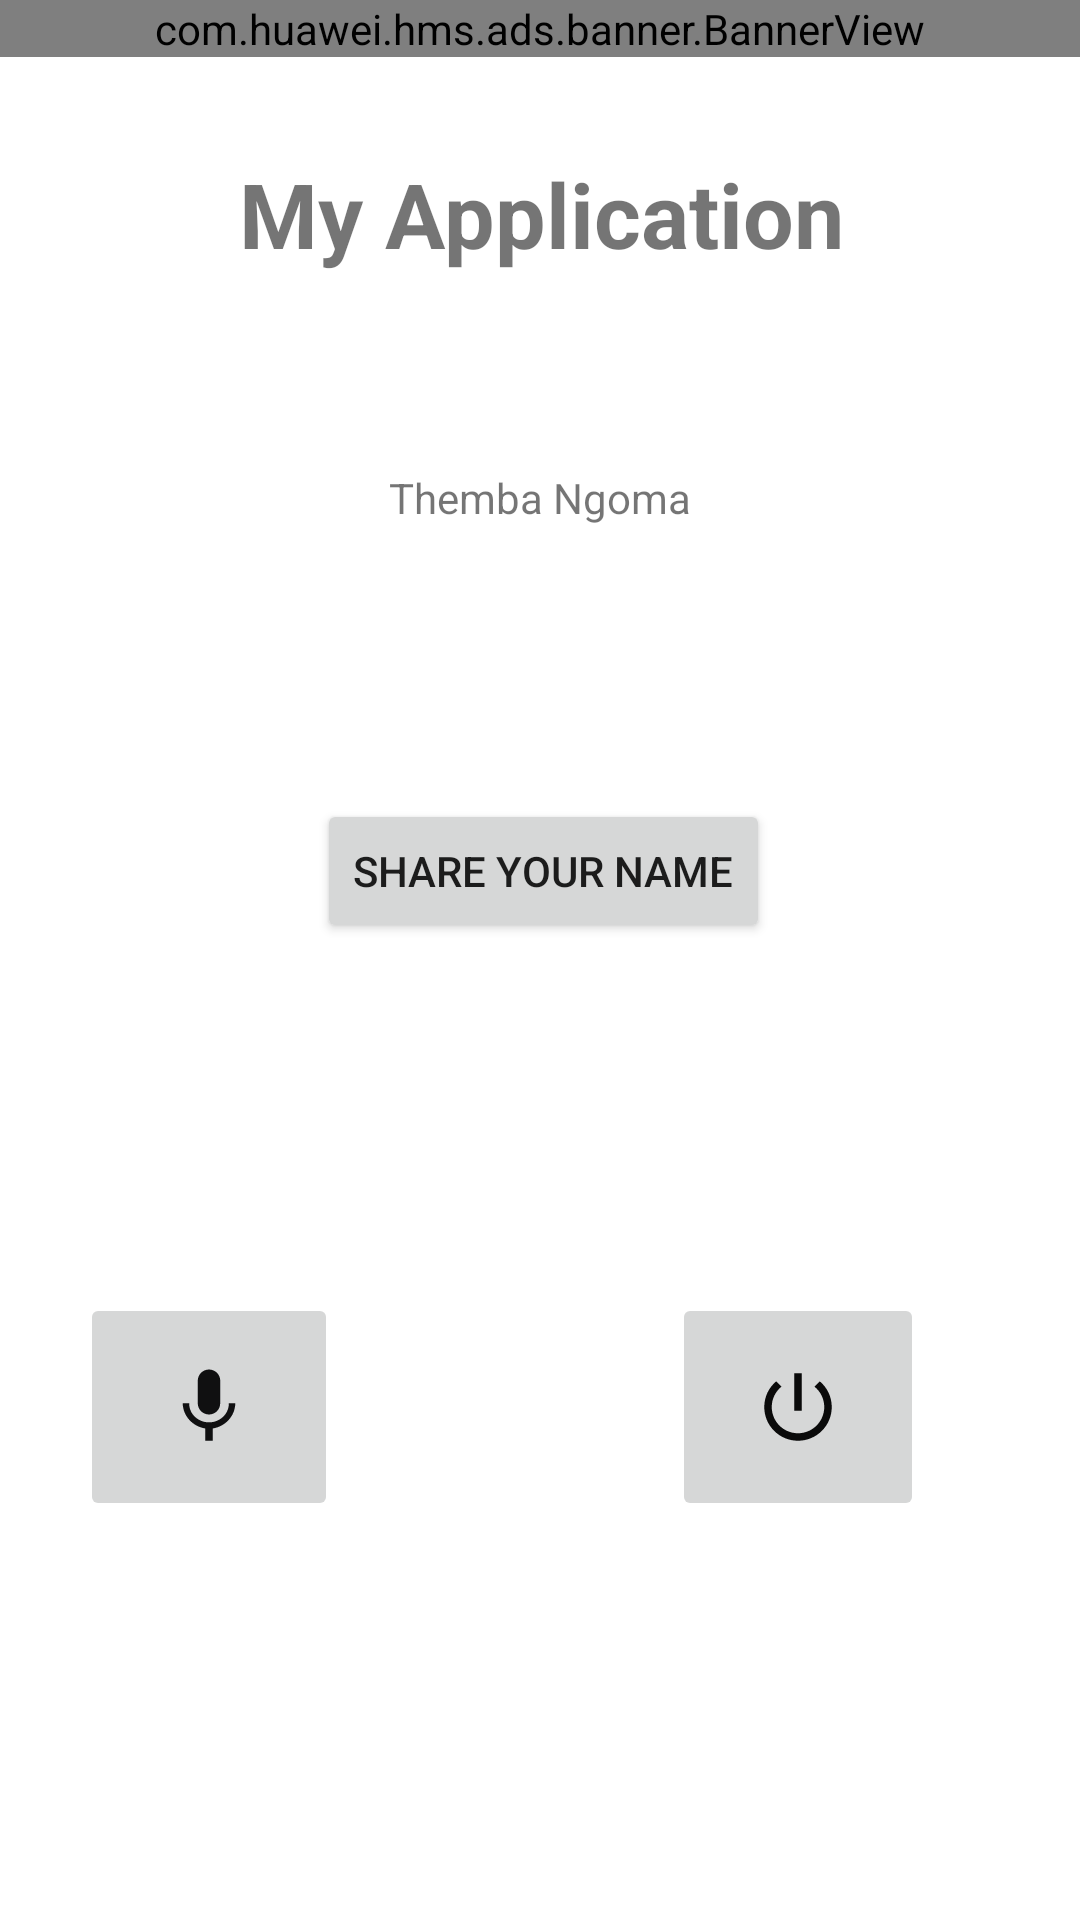

Named icons in this screenshot (1080px x 1920px) and their bounding boxes, (x1, y1, x2, y2):
mic: (92, 1311, 326, 1503)
power offf: (684, 1311, 912, 1503)
